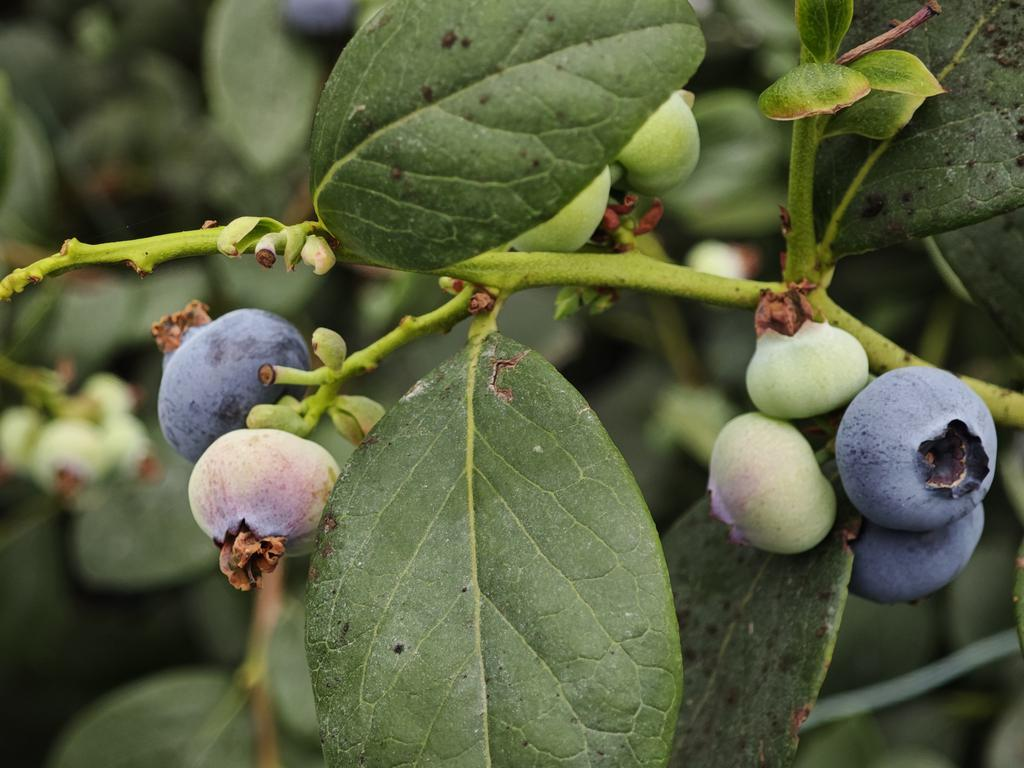RipeBlueBerry: (836, 363, 1000, 518)
Semi-RipeBlueBerry: (186, 429, 331, 562)
